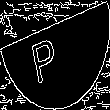P_N: (39, 26, 71, 84)
